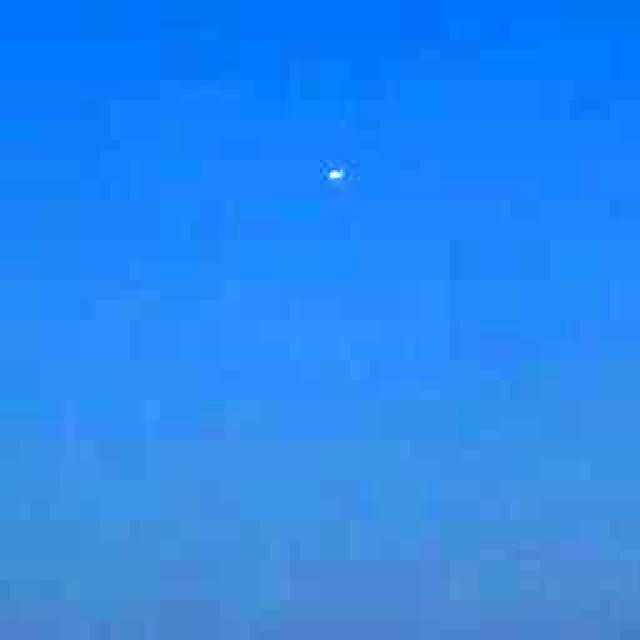bird: (309, 141, 361, 204)
